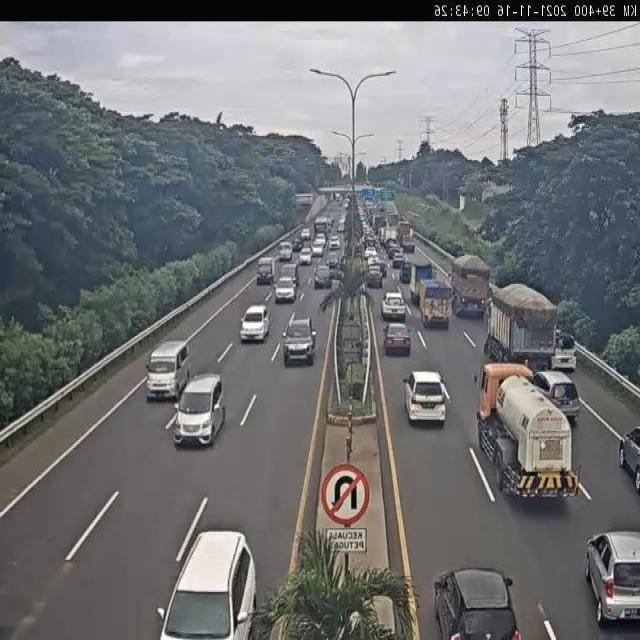Bus: (313, 216, 328, 237)
Car: (157, 529, 256, 639), (432, 567, 520, 639), (583, 528, 640, 632), (173, 372, 226, 448), (529, 370, 579, 423), (402, 369, 447, 426), (282, 314, 318, 366), (616, 425, 640, 495), (240, 304, 270, 342), (550, 331, 577, 371), (383, 322, 412, 356), (381, 291, 406, 322), (274, 276, 297, 303), (282, 263, 300, 289), (314, 265, 332, 290), (365, 266, 384, 288), (400, 258, 414, 282), (278, 242, 293, 261), (392, 250, 406, 270), (387, 243, 401, 263), (326, 252, 340, 271), (374, 258, 388, 277), (298, 247, 312, 265), (311, 241, 324, 258), (364, 247, 377, 262), (315, 232, 327, 248), (386, 238, 398, 252), (292, 236, 303, 251), (329, 235, 340, 250), (300, 228, 310, 242), (338, 216, 346, 232)
Truck: (471, 363, 583, 505), (486, 282, 560, 371), (446, 253, 490, 320), (416, 276, 454, 335), (408, 261, 436, 310), (255, 256, 276, 286), (383, 226, 400, 250), (395, 220, 411, 242), (400, 233, 416, 254)
Van: (146, 339, 192, 402)
